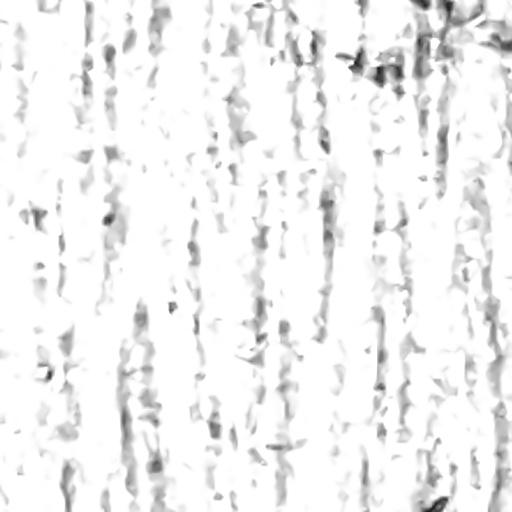egg: (422, 496, 448, 511)
